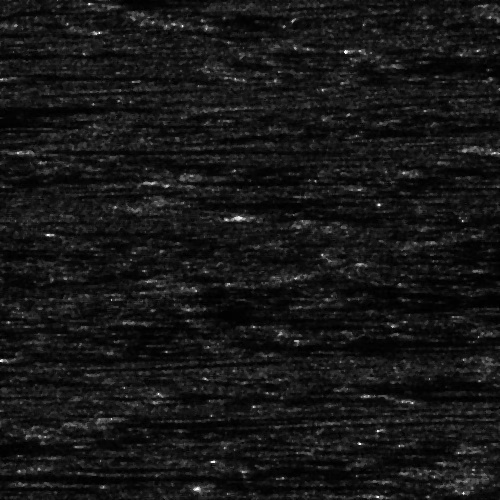object: (106, 198, 231, 209), (408, 231, 481, 248), (219, 209, 312, 222), (147, 169, 200, 188), (66, 416, 129, 427), (364, 390, 417, 399), (467, 141, 500, 152), (440, 458, 493, 463), (455, 443, 466, 452)
shadow: (0, 468, 272, 479), (266, 209, 463, 222), (174, 169, 303, 188), (98, 416, 298, 427), (168, 198, 297, 209), (391, 390, 500, 399), (444, 231, 500, 248), (460, 443, 500, 452), (466, 458, 500, 463)
